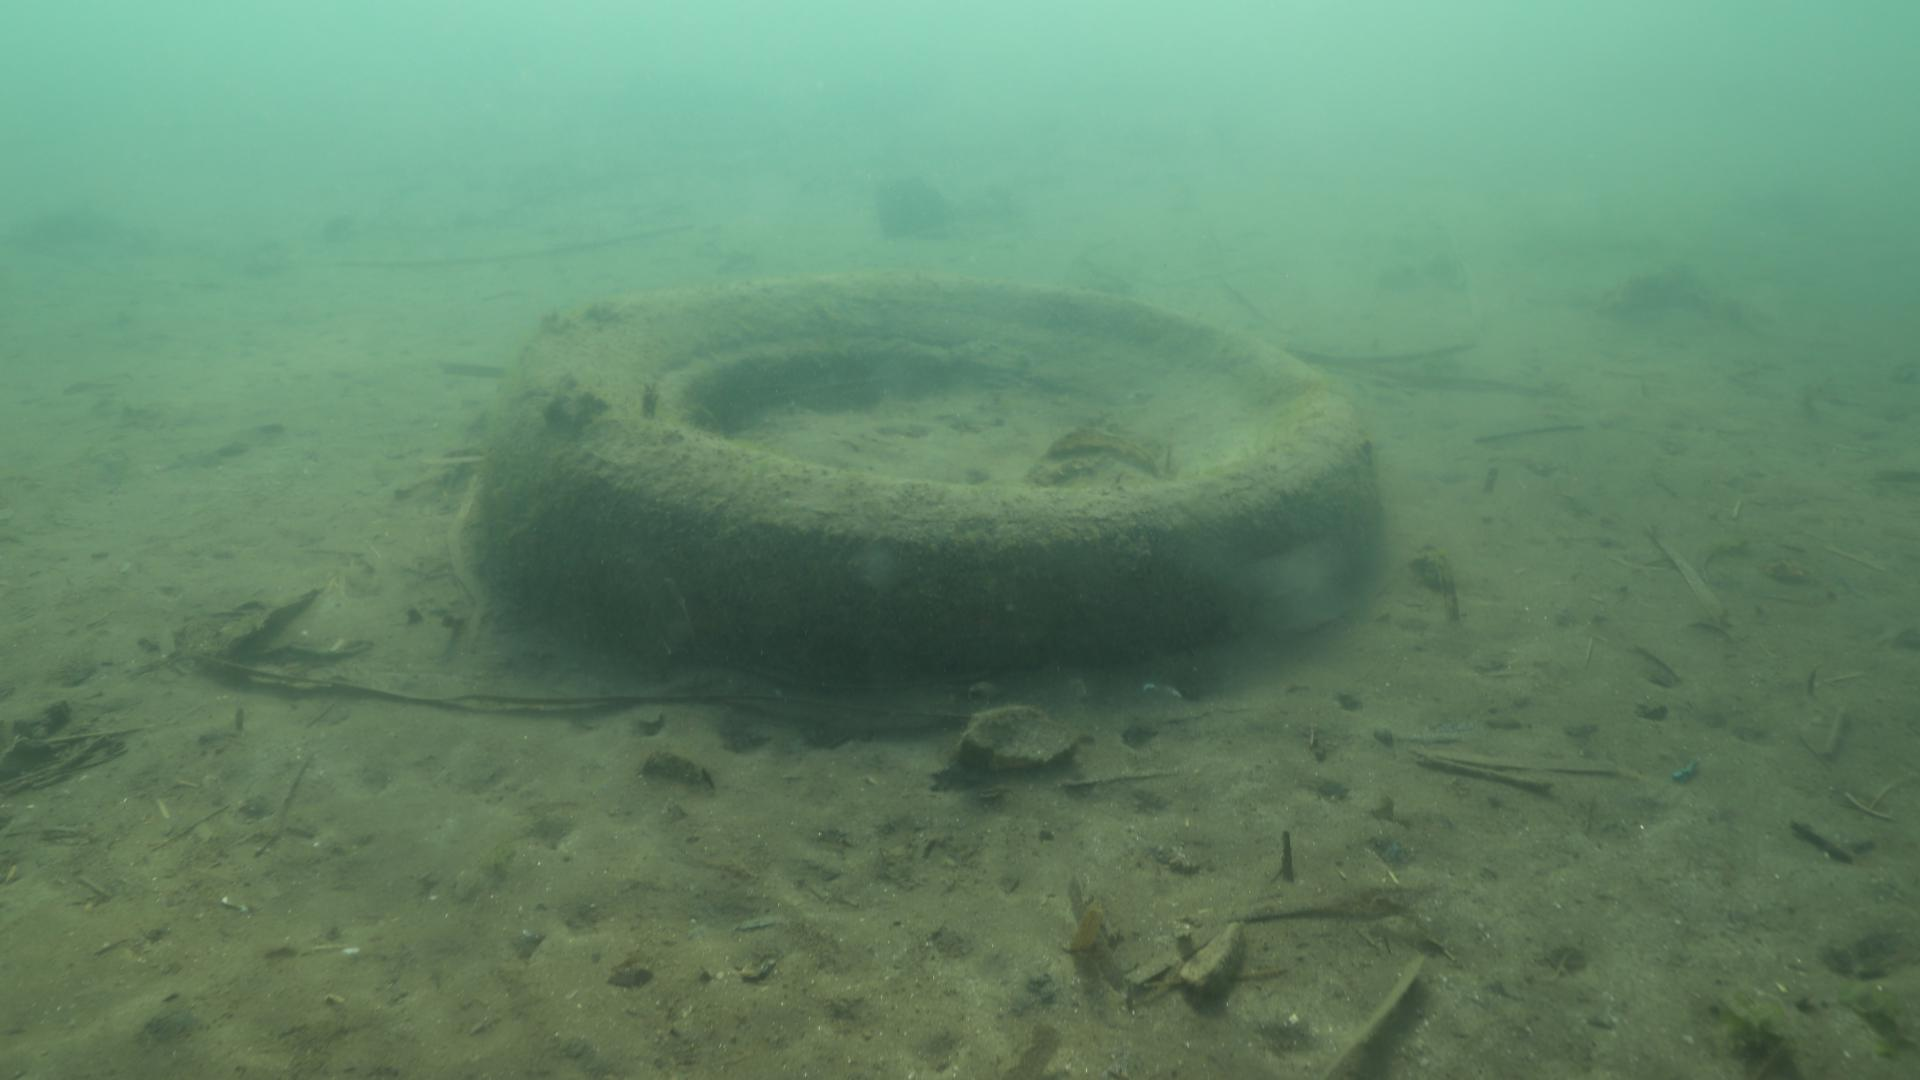tire: (510, 262, 1377, 675)
